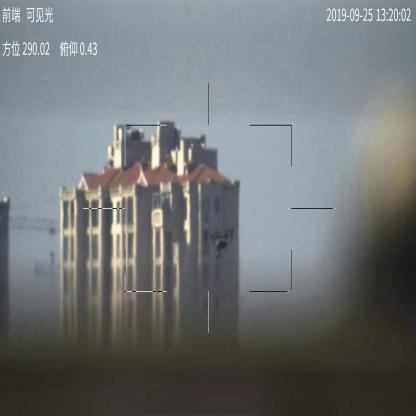uav: (211, 229, 234, 258)
